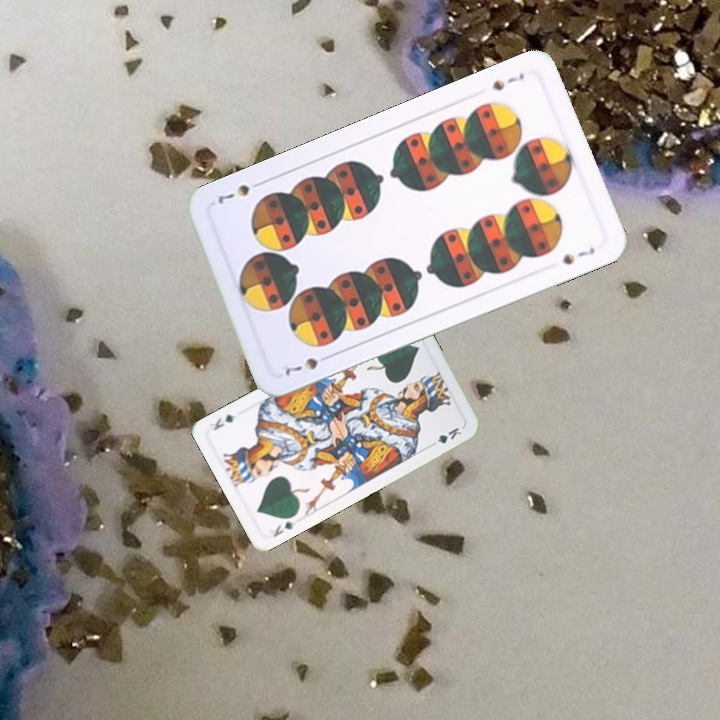GK: (266, 517, 298, 540)
S7: (277, 350, 335, 380), (488, 68, 527, 93)
